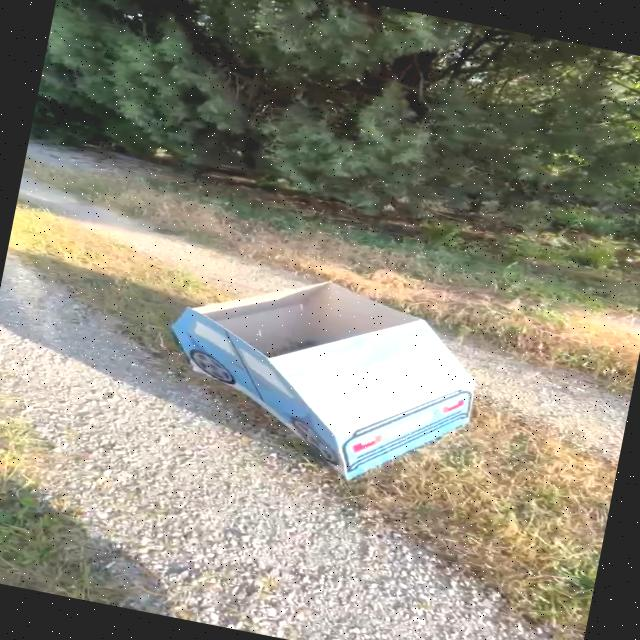blue_car: (100, 228, 529, 519)
